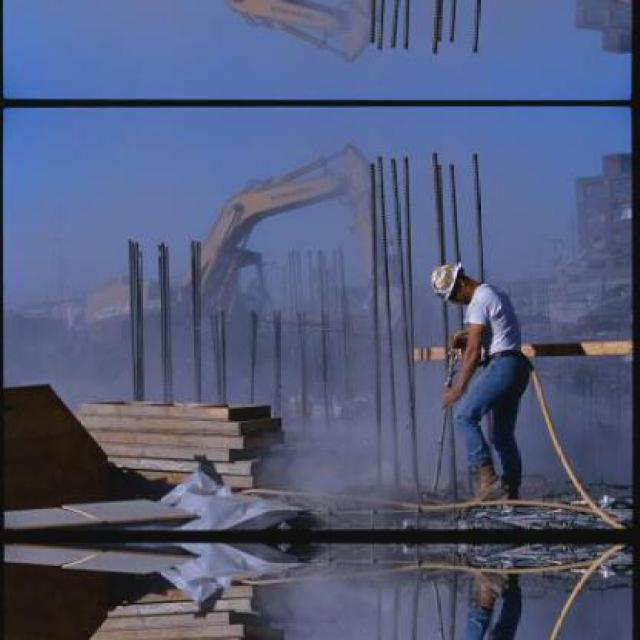helmet: (426, 262, 476, 301)
